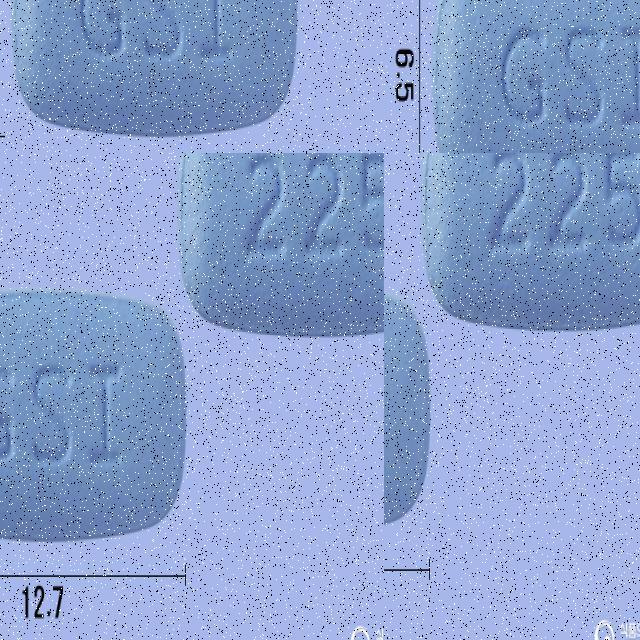Ceclacin: (0, 264, 195, 548), (166, 153, 384, 344)
Clamicin: (10, 0, 297, 142)
Descovy: (418, 153, 640, 330)
Doxiendi: (434, 0, 640, 153)
